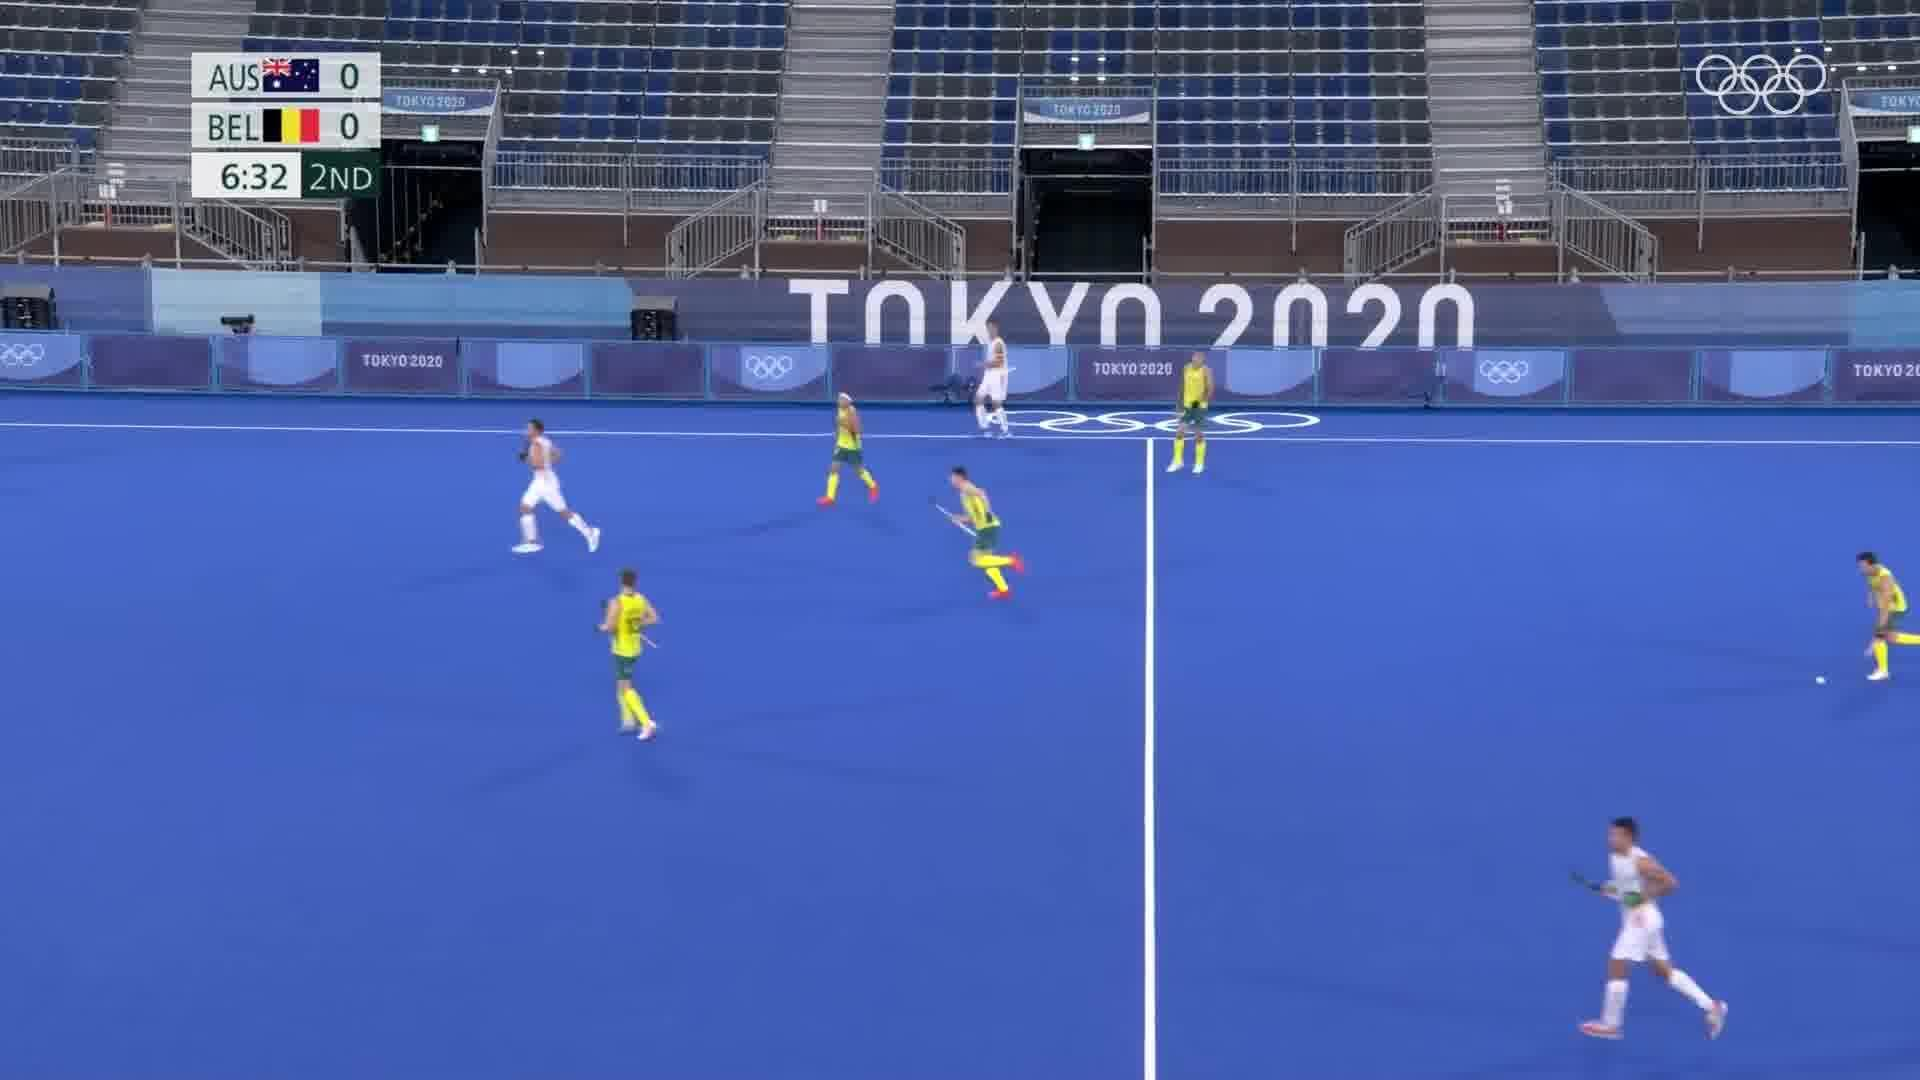ball: (1804, 666, 1832, 694)
